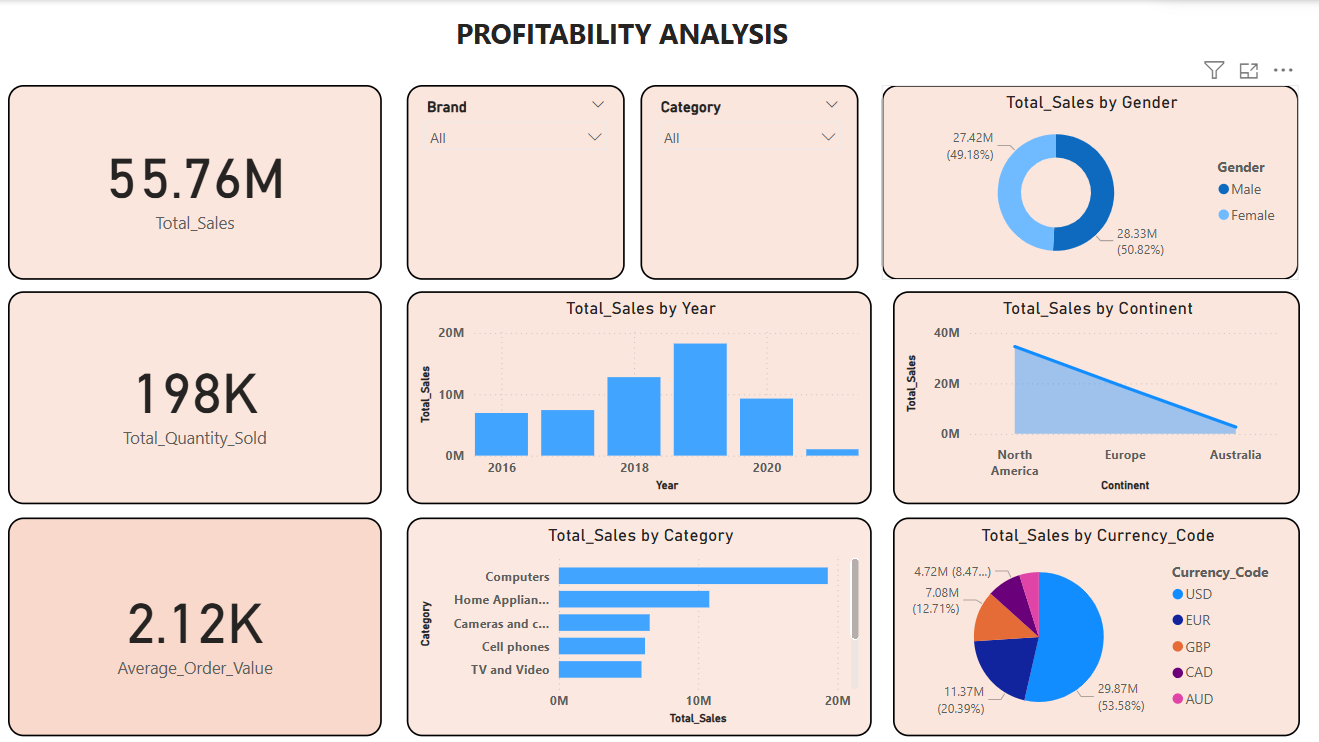

The page's visual inventory and layout, read from the dashboard file:
{"tool":"powerbi","page":{"name":"Page 1","canvas":[1280,720],"ordinal":0},"visuals":[{"type":"card","fields":{"Values":["cleaned_merged_table.Total_Sales"]},"box":[9.8,81.9,360.7,188.3],"z":0},{"type":"card","fields":{"Values":["cleaned_merged_table.Total_Quantity_Sold"]},"box":[9.8,281.3,360.7,205.4],"z":1000},{"type":"card","fields":{"Values":["cleaned_merged_table.Average_Order_Value"]},"box":[9.8,498.9,360.7,211.6],"z":2000},{"type":"clusteredColumnChart","fields":{"Category":["cleaned_merged_table.Order_Date.Variation.Date Hierarchy.Year"],"Y":["cleaned_merged_table.Total_Sales"]},"box":[395,281.3,448.8,205.4],"z":3000},{"type":"clusteredBarChart","fields":{"Category":["cleaned_merged_table.Category"],"Y":["cleaned_merged_table.Total_Sales"]},"box":[395,498.9,448.8,211.6],"z":4000},{"type":"donutChart","fields":{"Category":["cleaned_merged_table.Gender"],"Y":["cleaned_merged_table.Total_Sales"]},"box":[853.5,81.9,402.3,188.3],"z":5000},{"type":"pieChart","fields":{"Category":["cleaned_merged_table.Currency_Code"],"Y":["cleaned_merged_table.Total_Sales"]},"box":[863.3,498.9,392.5,211.6],"z":6000},{"type":"areaChart","fields":{"Category":["cleaned_merged_table.Continent"],"Y":["cleaned_merged_table.Total_Sales"]},"box":[863.3,281.3,392.5,205.4],"z":7000},{"type":"slicer","fields":{"Values":["cleaned_merged_table.Brand"]},"box":[395,81.9,210.3,188.3],"z":8000},{"type":"slicer","fields":{"Values":["cleaned_merged_table.Category"]},"box":[620,81.9,210.3,188.3],"z":9000},{"type":"textbox","box":[100.3,8.6,959.9,57.5],"z":10000}]}

Visuals, with their boxes in screenshot pixels (x1, y1, x2, y2), scaled from the page's 1280x720 canvas onto the 1319x742 screenshot:
card - cleaned_merged_table.Total_Sales: 10/84/382/278
card - cleaned_merged_table.Total_Quantity_Sold: 10/290/382/502
card - cleaned_merged_table.Average_Order_Value: 10/514/382/732
clusteredColumnChart - cleaned_merged_table.Order_Date.Variation.Date Hierarchy.Year x cleaned_merged_table.Total_Sales: 407/290/870/502
clusteredBarChart - cleaned_merged_table.Category x cleaned_merged_table.Total_Sales: 407/514/870/732
donutChart - cleaned_merged_table.Gender x cleaned_merged_table.Total_Sales: 880/84/1294/278
pieChart - cleaned_merged_table.Currency_Code x cleaned_merged_table.Total_Sales: 890/514/1294/732
areaChart - cleaned_merged_table.Continent x cleaned_merged_table.Total_Sales: 890/290/1294/502
slicer - cleaned_merged_table.Brand: 407/84/624/278
slicer - cleaned_merged_table.Category: 639/84/856/278
textbox: 103/9/1093/68
